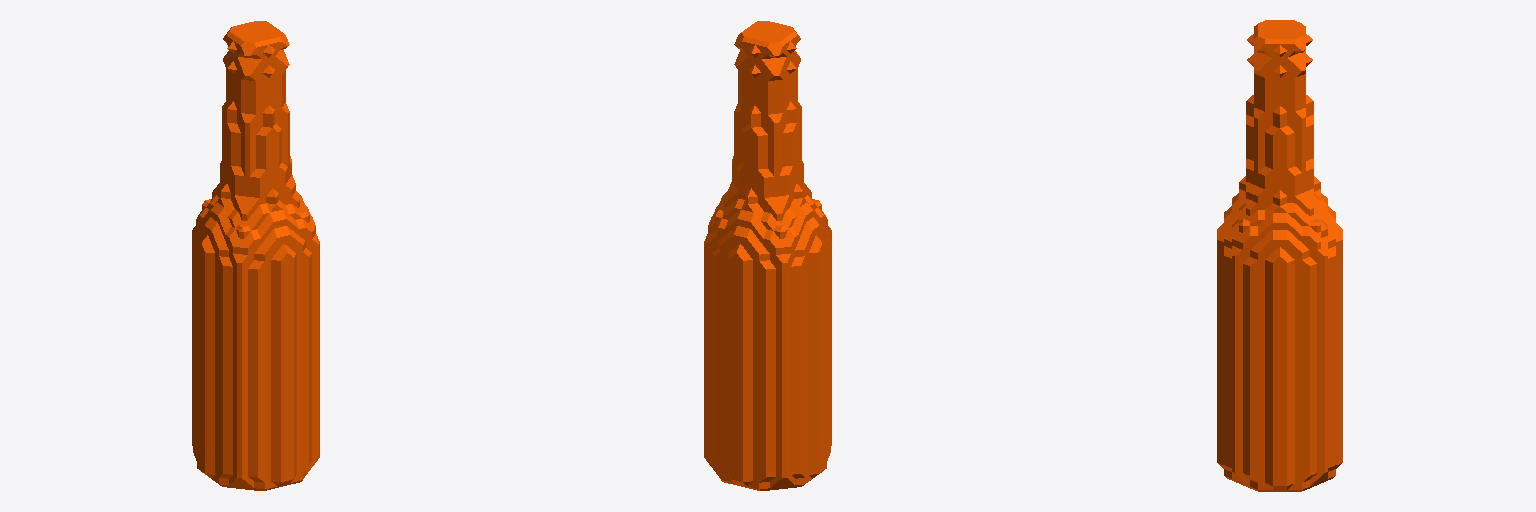
URDF robot description (Red_bottle):
<robot name="Red_bottle">
   <material name="obj_color">
      <color rgba="1.0 0.423529411765 0.0392156862745 1.0" />
   </material>
   <link name="top">
      <inertial>
         <origin rpy="8.840726753945285e-05 0.0007423204903987842 0.0007423349216347335" xyz="-1.814259136312157e-06 5.0552798433665e-07 -0.00942596762525383" />
         <mass value="0.24875" />
         <inertia ixx="0.0007423292075164611" ixy="7.060512939530298e-09" ixz="-4.466463352899406e-08" iyy="0.0007423261974572485" iyz="5.120129523505841e-08" izz="8.840727459926124e-05" />
      </inertial>
      <visual>
         <origin rpy="0 0 0" xyz="0 0 0" />
         <geometry>
            <mesh filename="top_watertight_tiny.stl" scale="1 1 1" />
         </geometry>
         <material name="obj_color" />
      </visual>
      <collision>
         <origin rpy="0 0 0" xyz="0 0 0" />
         <geometry>
            <mesh filename="top_watertight_tiny.obj" scale="1 1 1" />
         </geometry>
      </collision>
   </link>
   <link name="bottom">
      <inertial>
         <origin rpy="1.633333333194242e-08 1.633333333194243e-08 1.633333333357667e-08" xyz="0.3464080000000008 0.3464080000000008 0.3464080000000008" />
         <mass value="0.0009800000000000017" />
         <inertia ixx="1.633333333248717e-08" ixy="5.447480642029219e-19" ixz="5.447480642029219e-19" iyy="1.633333333248717e-08" iyz="5.447480642029219e-19" izz="1.633333333248717e-08" />
      </inertial>
      <visual>
         <origin rpy="0 0 0" xyz="0 0 0" />
         <geometry>
            <mesh filename="bottom_watertight_tiny.stl" scale="1 1 1" />
         </geometry>
         <material name="obj_color" />
      </visual>
   </link>
   <joint name="rotation" type="revolute">
      <origin xyz="0 0 0" />
      <axis xyz="0 0 -1" />
      <parent link="bottom" />
      <child link="top" />
      <dynamics damping="1.0" friction="1.0" />
      <limit effort="0.1" velocity="0.1" lower="0" upper="0.001" />
   </joint>
</robot>

--- Render facts (derived) ---
3 views of the same robot in one strip: view 1: azimuth 30°, elevation 25°; view 2: azimuth 150°, elevation 25°; view 3: azimuth 270°, elevation 25° (orthographic).
Robot: Red_bottle — 2 links, 1 joints (1 revolute); root link bottom; default pose: every joint at zero.
Visible links, largest first — view 1: top; view 2: top; view 3: top.
Link boxes in pixels (x1,y1,x2,y2): top: (192,21,319,490); top: (704,21,831,490); top: (1217,20,1342,491).
Bounding box of the posed robot: 0.0584 × 0.0584 × 0.2233 m (x, y, z).
1 mesh visuals loaded from 2 distinct referenced files (1 binary STL); not drawn: 1 (reference not matched to a file when rendering).